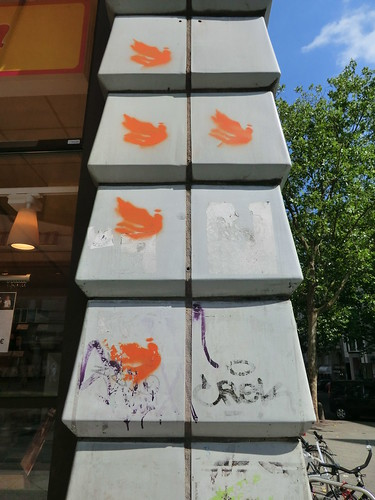graffiti: (102, 188, 176, 260), (96, 320, 170, 392), (198, 95, 266, 161), (110, 91, 178, 157), (111, 28, 180, 71)
sky: (281, 1, 375, 88)
tree: (276, 71, 375, 412)
